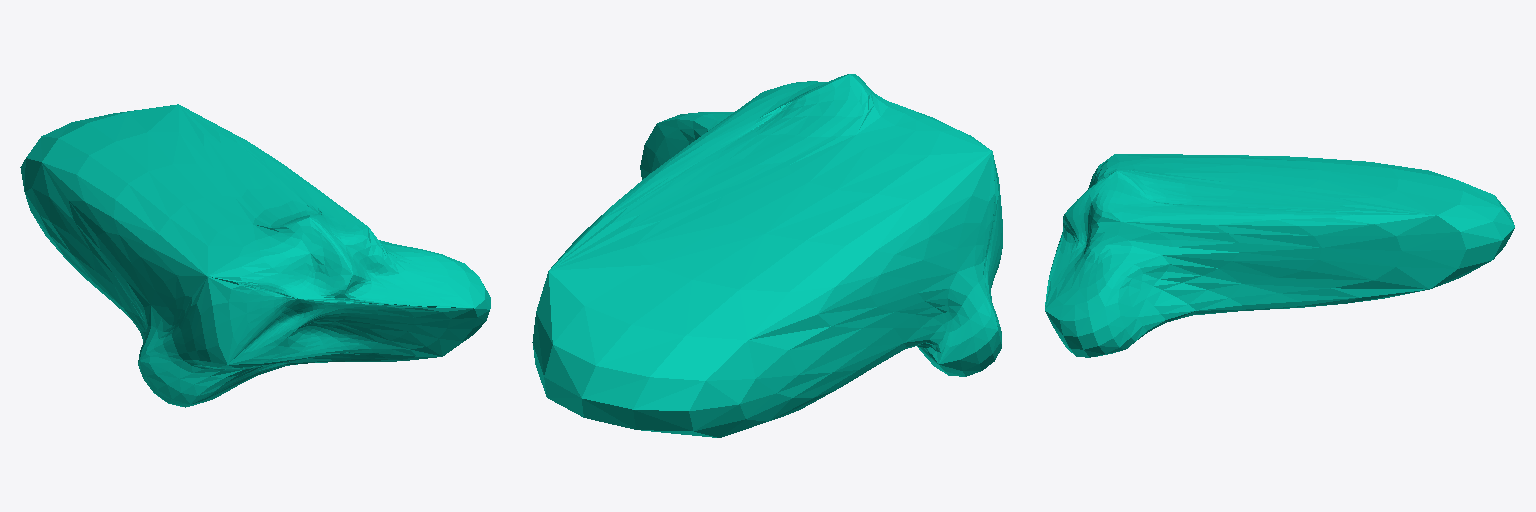
robot.urdf — blob860:

<robot name="blob860">
  <link name="random_obj_860">
    <contact>
      <lateral_friction value="1.0"/>
      <rolling_friction value="0.0"/>
      <inertia_scaling value="3.0"/>
      <contact_cfm value="0.0"/>
      <contact_erp value="1.0"/>
    </contact>
    <inertial>
      <origin rpy="0 0 0" xyz="0 0 0"/>
      <mass value="0.1563"/>
      <inertia ixx="1" ixy="0" ixz="0" iyy="1" iyz="0" izz="0"/>
    </inertial>
    <visual>
      <origin rpy="0 0 0" xyz="0 0 0"/>
      <geometry>
        <mesh filename="860.obj" scale="0.0070 0.0070 0.0070"/>
      </geometry>
      <material name="blockmat">
        <color rgba="0.06 0.80 0.71 1"/>
      </material>
    </visual>
    <collision>
      <origin rpy="0 0 0" xyz="0 0 0"/>
      <geometry>
        <mesh filename="860_coll.obj" scale="0.0070 0.0070 0.0070"/>
      </geometry>
    </collision>
  </link>
</robot>

--- What the picture shows (computed from the rendered views, not written in the file) ---
3 views of the same robot in one strip: view 1: azimuth 30°, elevation 25°; view 2: azimuth 150°, elevation 25°; view 3: azimuth 270°, elevation 25° (orthographic).
Model blob860 with 1 links and 0 joints (none), rooted at random_obj_860, posed all joints at 0.
Visible links, largest first — view 1: random_obj_860; view 2: random_obj_860; view 3: random_obj_860.
Boxes of the visible links, bbox=[...] form: random_obj_860: bbox=[20, 104, 490, 407]; random_obj_860: bbox=[532, 74, 1002, 437]; random_obj_860: bbox=[1045, 154, 1514, 357].
Bounding box of the posed robot: 0.0592 × 0.088 × 0.0333 m (x, y, z).
Meshes: 1 distinct files referenced, 1 mesh visuals loaded (1 OBJ).
